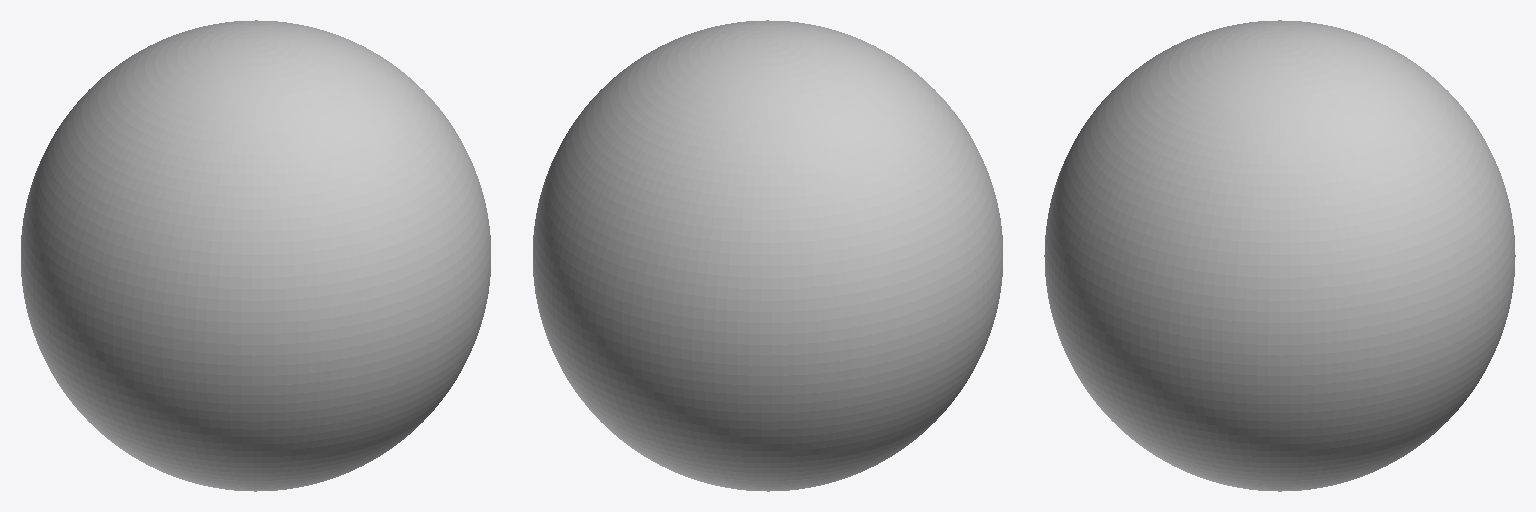
File: mars.obj
3 views of the same model, side by side, from view 1: azimuth 30°, elevation 25°; view 2: azimuth 150°, elevation 25°; view 3: azimuth 270°, elevation 25° (orthographic).
Parts seen in each view (by area): view 1: Earth_Sphere; view 2: Earth_Sphere; view 3: Earth_Sphere.
Part boxes in pixels (left/top/right/bottom): Earth_Sphere: left=21, top=20, right=490, bottom=491; Earth_Sphere: left=533, top=20, right=1002, bottom=491; Earth_Sphere: left=1044, top=20, right=1515, bottom=491.
Size of the model in its own units: 2 by 2 by 2.